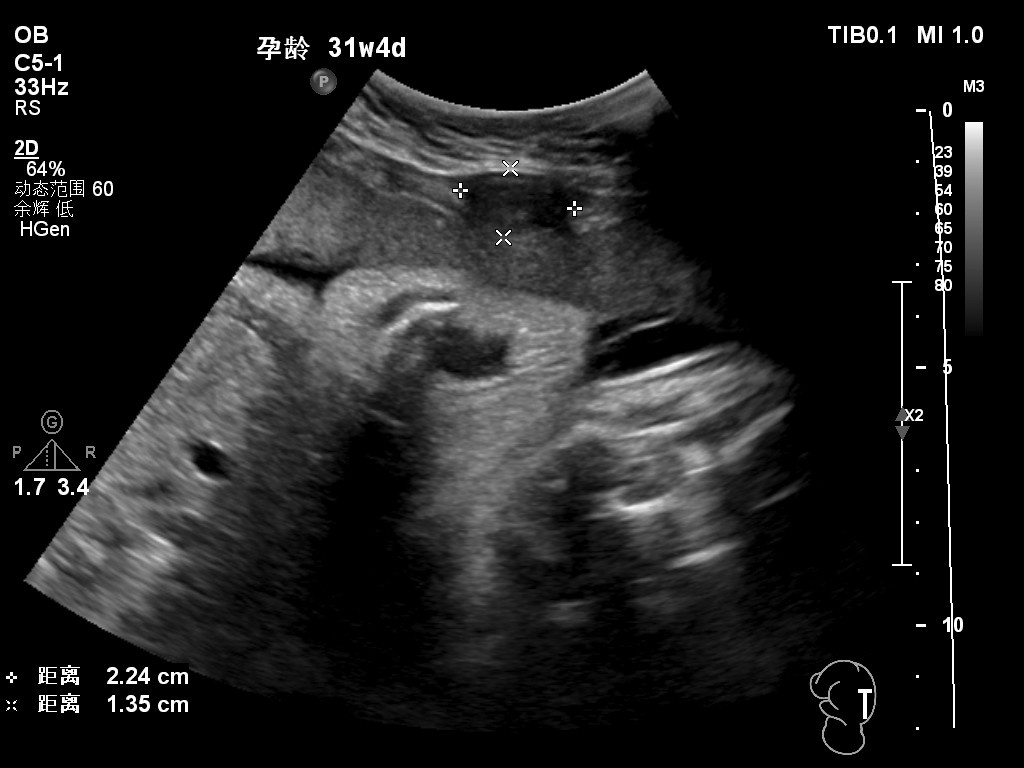肌瘤: (465, 176, 575, 233)
